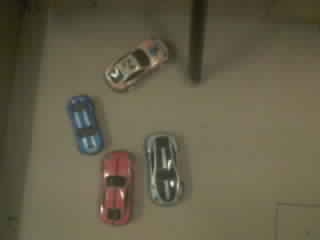Car: (107, 40, 167, 90), (145, 132, 183, 205), (100, 150, 133, 224), (68, 96, 100, 151)
